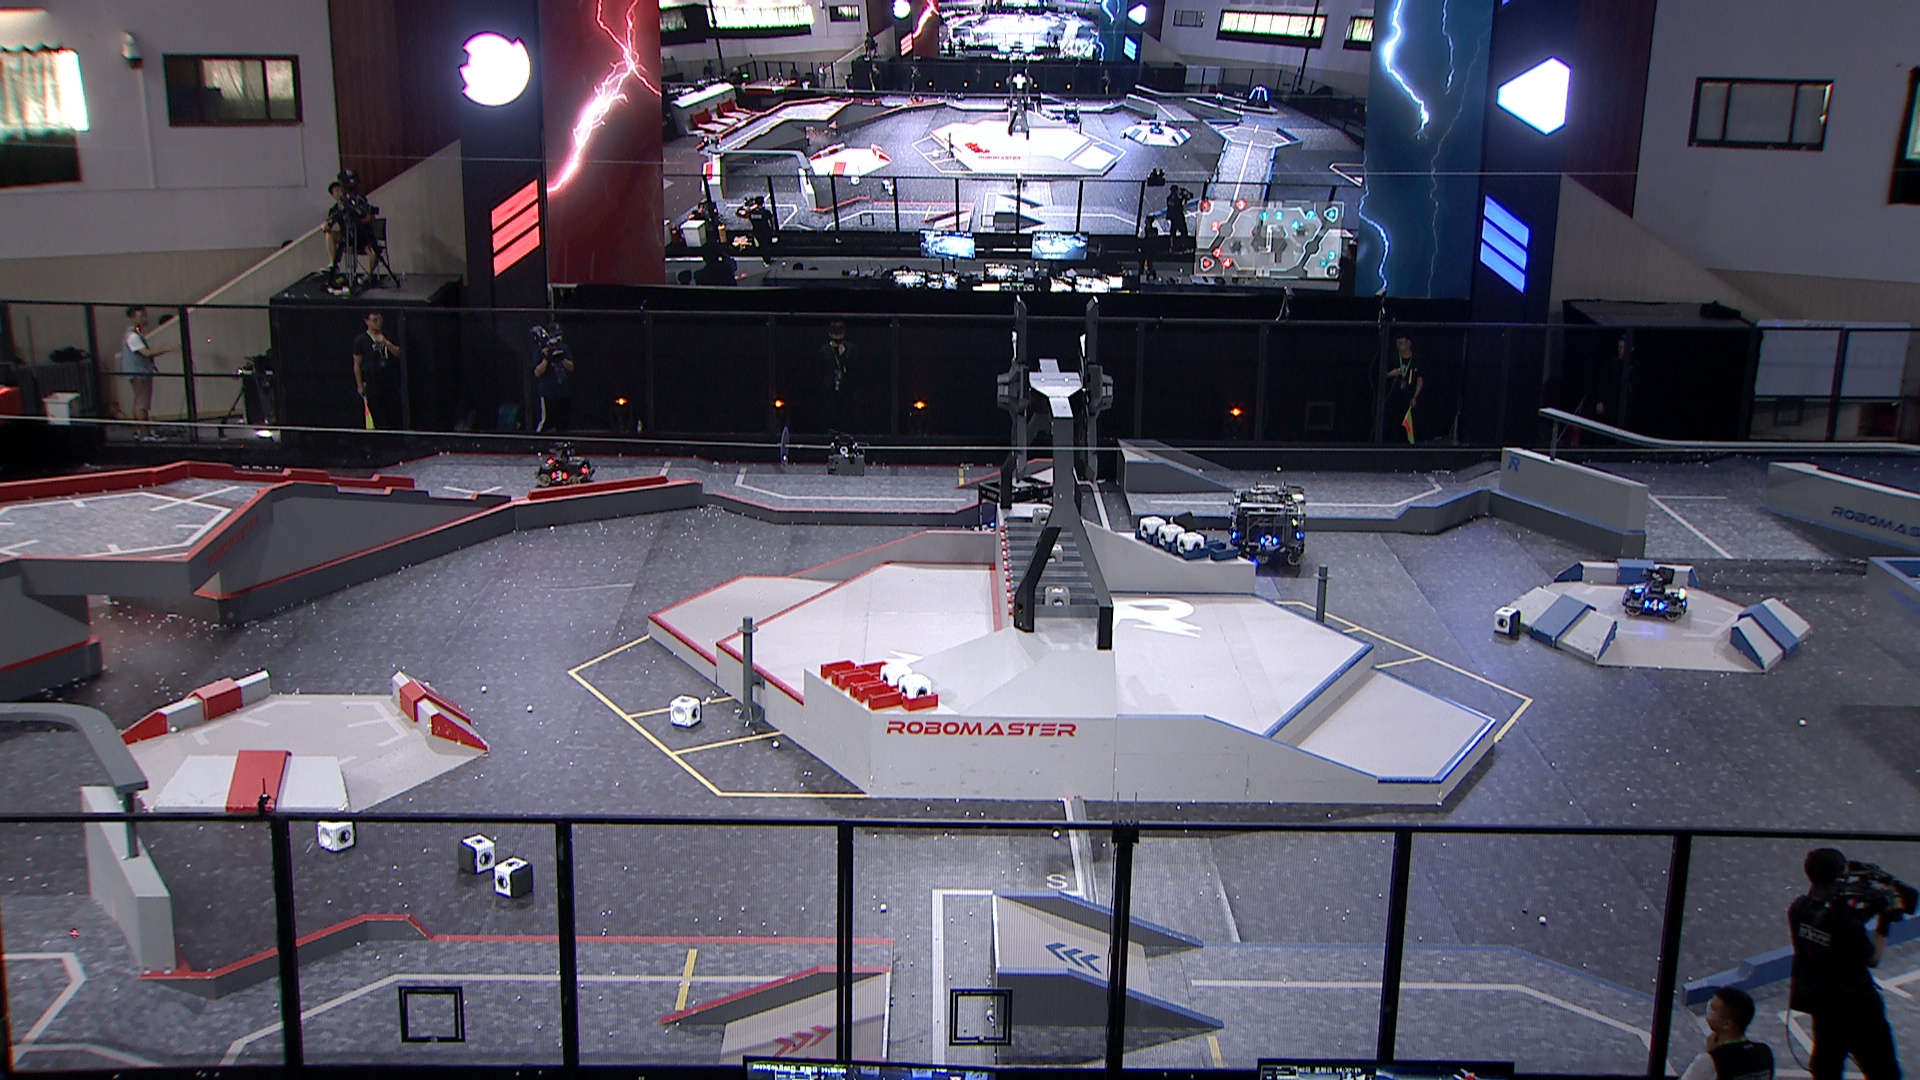armor: (1258, 531, 1280, 550), (1642, 597, 1667, 613), (550, 469, 570, 484), (579, 462, 593, 476), (1629, 583, 1648, 593)
car: (968, 475, 1058, 556), (1228, 484, 1307, 567), (1623, 567, 1691, 622), (534, 442, 596, 488)
ignore: (688, 196, 723, 228), (698, 131, 723, 161), (1244, 84, 1271, 109), (736, 196, 764, 219), (1063, 105, 1083, 127), (1150, 117, 1166, 136), (1215, 90, 1225, 105)
